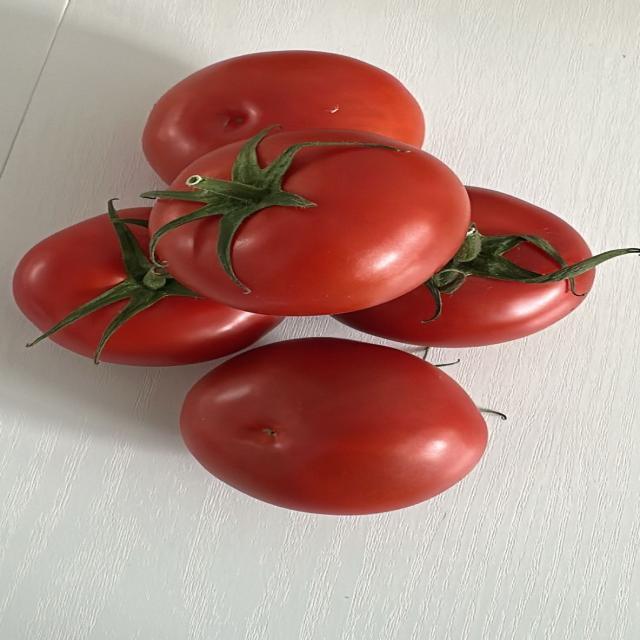tomato: (158, 130, 469, 315), (181, 338, 486, 514), (143, 51, 424, 182), (337, 276, 583, 346), (101, 296, 281, 365)
